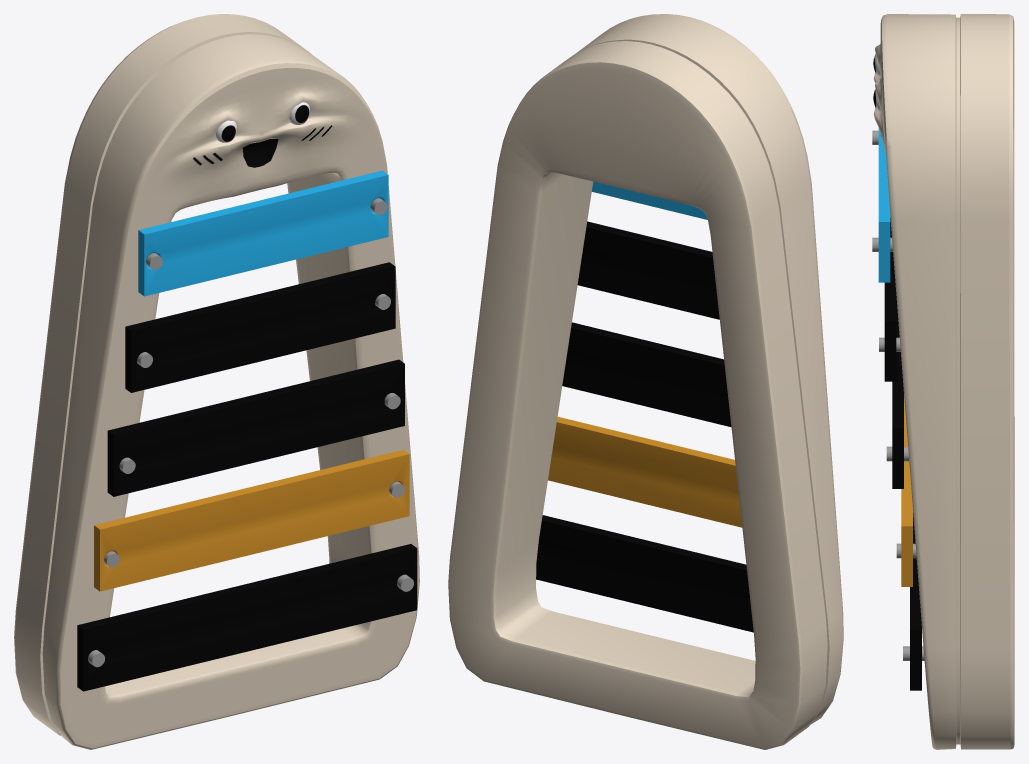
File: xylophone_3.dae
3 views of the same model, side by side, from view 1: azimuth 30°, elevation 25°; view 2: azimuth 150°, elevation 25°; view 3: azimuth 270°, elevation 25° (orthographic). The views are drawn at different scales.
Visible parts, largest first — view 1: CylinderFBXASC046014, CubeFBXASC046032, CubeFBXASC046031, CubeFBXASC046030, CubeFBXASC046029, CubeFBXASC046028; view 2: CylinderFBXASC046014, CubeFBXASC046032, CubeFBXASC046031, CubeFBXASC046030, CubeFBXASC046029, CubeFBXASC046028; view 3: CylinderFBXASC046014, CubeFBXASC046028, CubeFBXASC046030, CubeFBXASC046031, CubeFBXASC046029, CubeFBXASC046032.
Part boxes in pixels (left/top/right/bottom): CylinderFBXASC046014: left=14, top=14, right=419, bottom=749; CubeFBXASC046032: left=77, top=544, right=417, bottom=691; CubeFBXASC046031: left=94, top=450, right=409, bottom=591; CubeFBXASC046030: left=107, top=359, right=404, bottom=496; CubeFBXASC046029: left=125, top=262, right=395, bottom=392; CubeFBXASC046028: left=138, top=170, right=388, bottom=296; CylinderFBXASC046014: left=448, top=14, right=843, bottom=749; CubeFBXASC046032: left=536, top=515, right=753, bottom=632; CubeFBXASC046031: left=548, top=416, right=742, bottom=527; CubeFBXASC046030: left=562, top=322, right=731, bottom=426; CubeFBXASC046029: left=577, top=221, right=719, bottom=319; CubeFBXASC046028: left=592, top=181, right=707, bottom=219; CylinderFBXASC046014: left=873, top=14, right=1014, bottom=749; CubeFBXASC046028: left=878, top=128, right=890, bottom=282; CubeFBXASC046030: left=892, top=296, right=903, bottom=488; CubeFBXASC046031: left=901, top=396, right=912, bottom=586; CubeFBXASC046029: left=884, top=218, right=896, bottom=381; CubeFBXASC046032: left=910, top=513, right=921, bottom=690.
Size of the model in its own units: 282 by 497 by 97.8.
2 materials, 1 textured.
